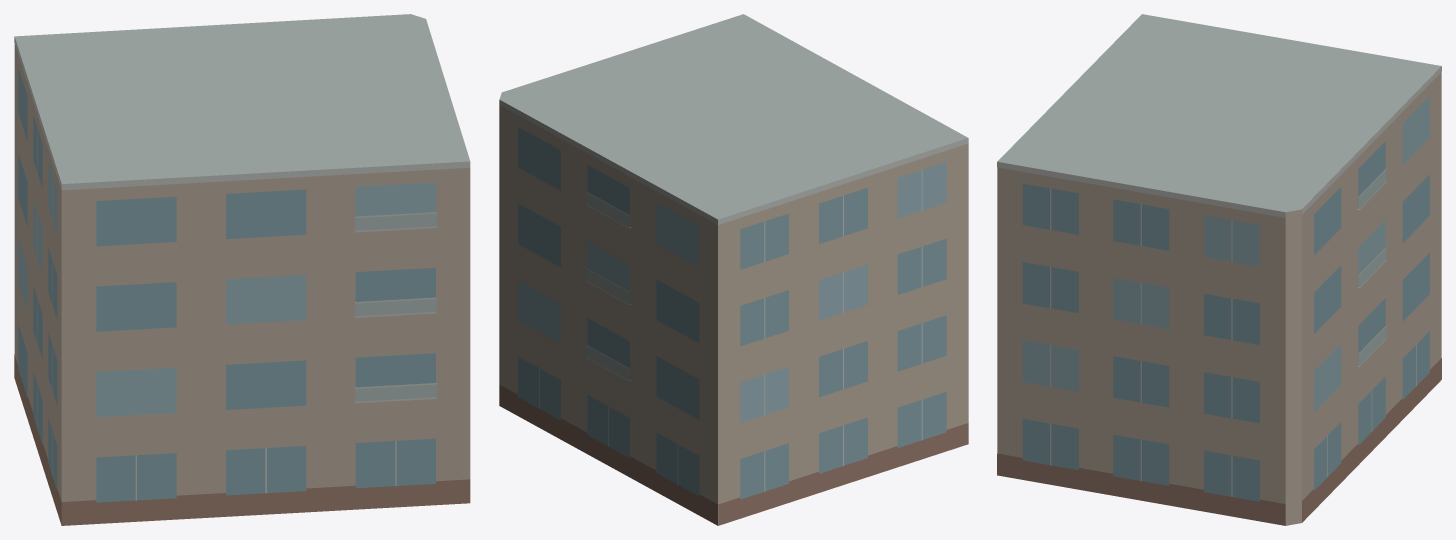
File: survey-upis-32489780.glb
3 views of the same model, side by side, from view 1: azimuth 30°, elevation 25°; view 2: azimuth 150°, elevation 25°; view 3: azimuth 270°, elevation 25° (orthographic). The views are drawn at different scales.
Parts seen in each view (by area): view 1: survey-upis-32489780.tmp; view 2: survey-upis-32489780.tmp; view 3: survey-upis-32489780.tmp.
Boxes of the visible parts, box(x1,y1,x2,y2) form: survey-upis-32489780.tmp: box(14, 14, 470, 525); survey-upis-32489780.tmp: box(499, 14, 968, 525); survey-upis-32489780.tmp: box(997, 14, 1441, 525).
Size of the model in its own units: 18.22 by 13.44 by 17.27.
